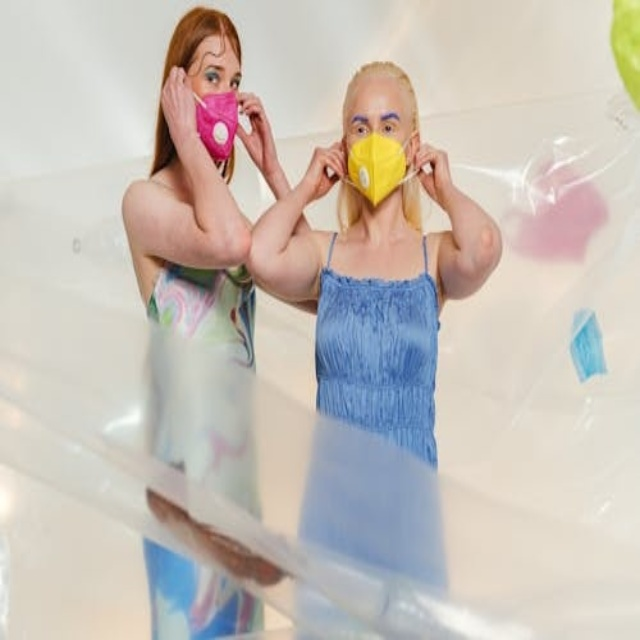Mascara: (347, 131, 408, 208), (194, 90, 239, 163)
Sin_gafas: (197, 56, 241, 96), (348, 108, 402, 133)
Sin_guantes: (239, 92, 280, 167), (163, 62, 198, 142), (301, 140, 349, 198), (412, 138, 451, 198)
